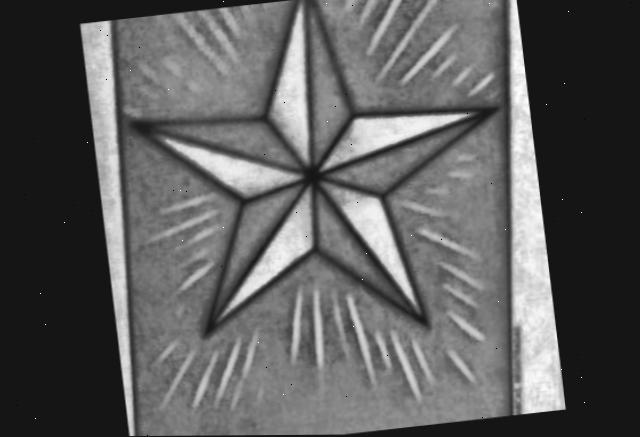La Estrella: (111, 0, 507, 436)
